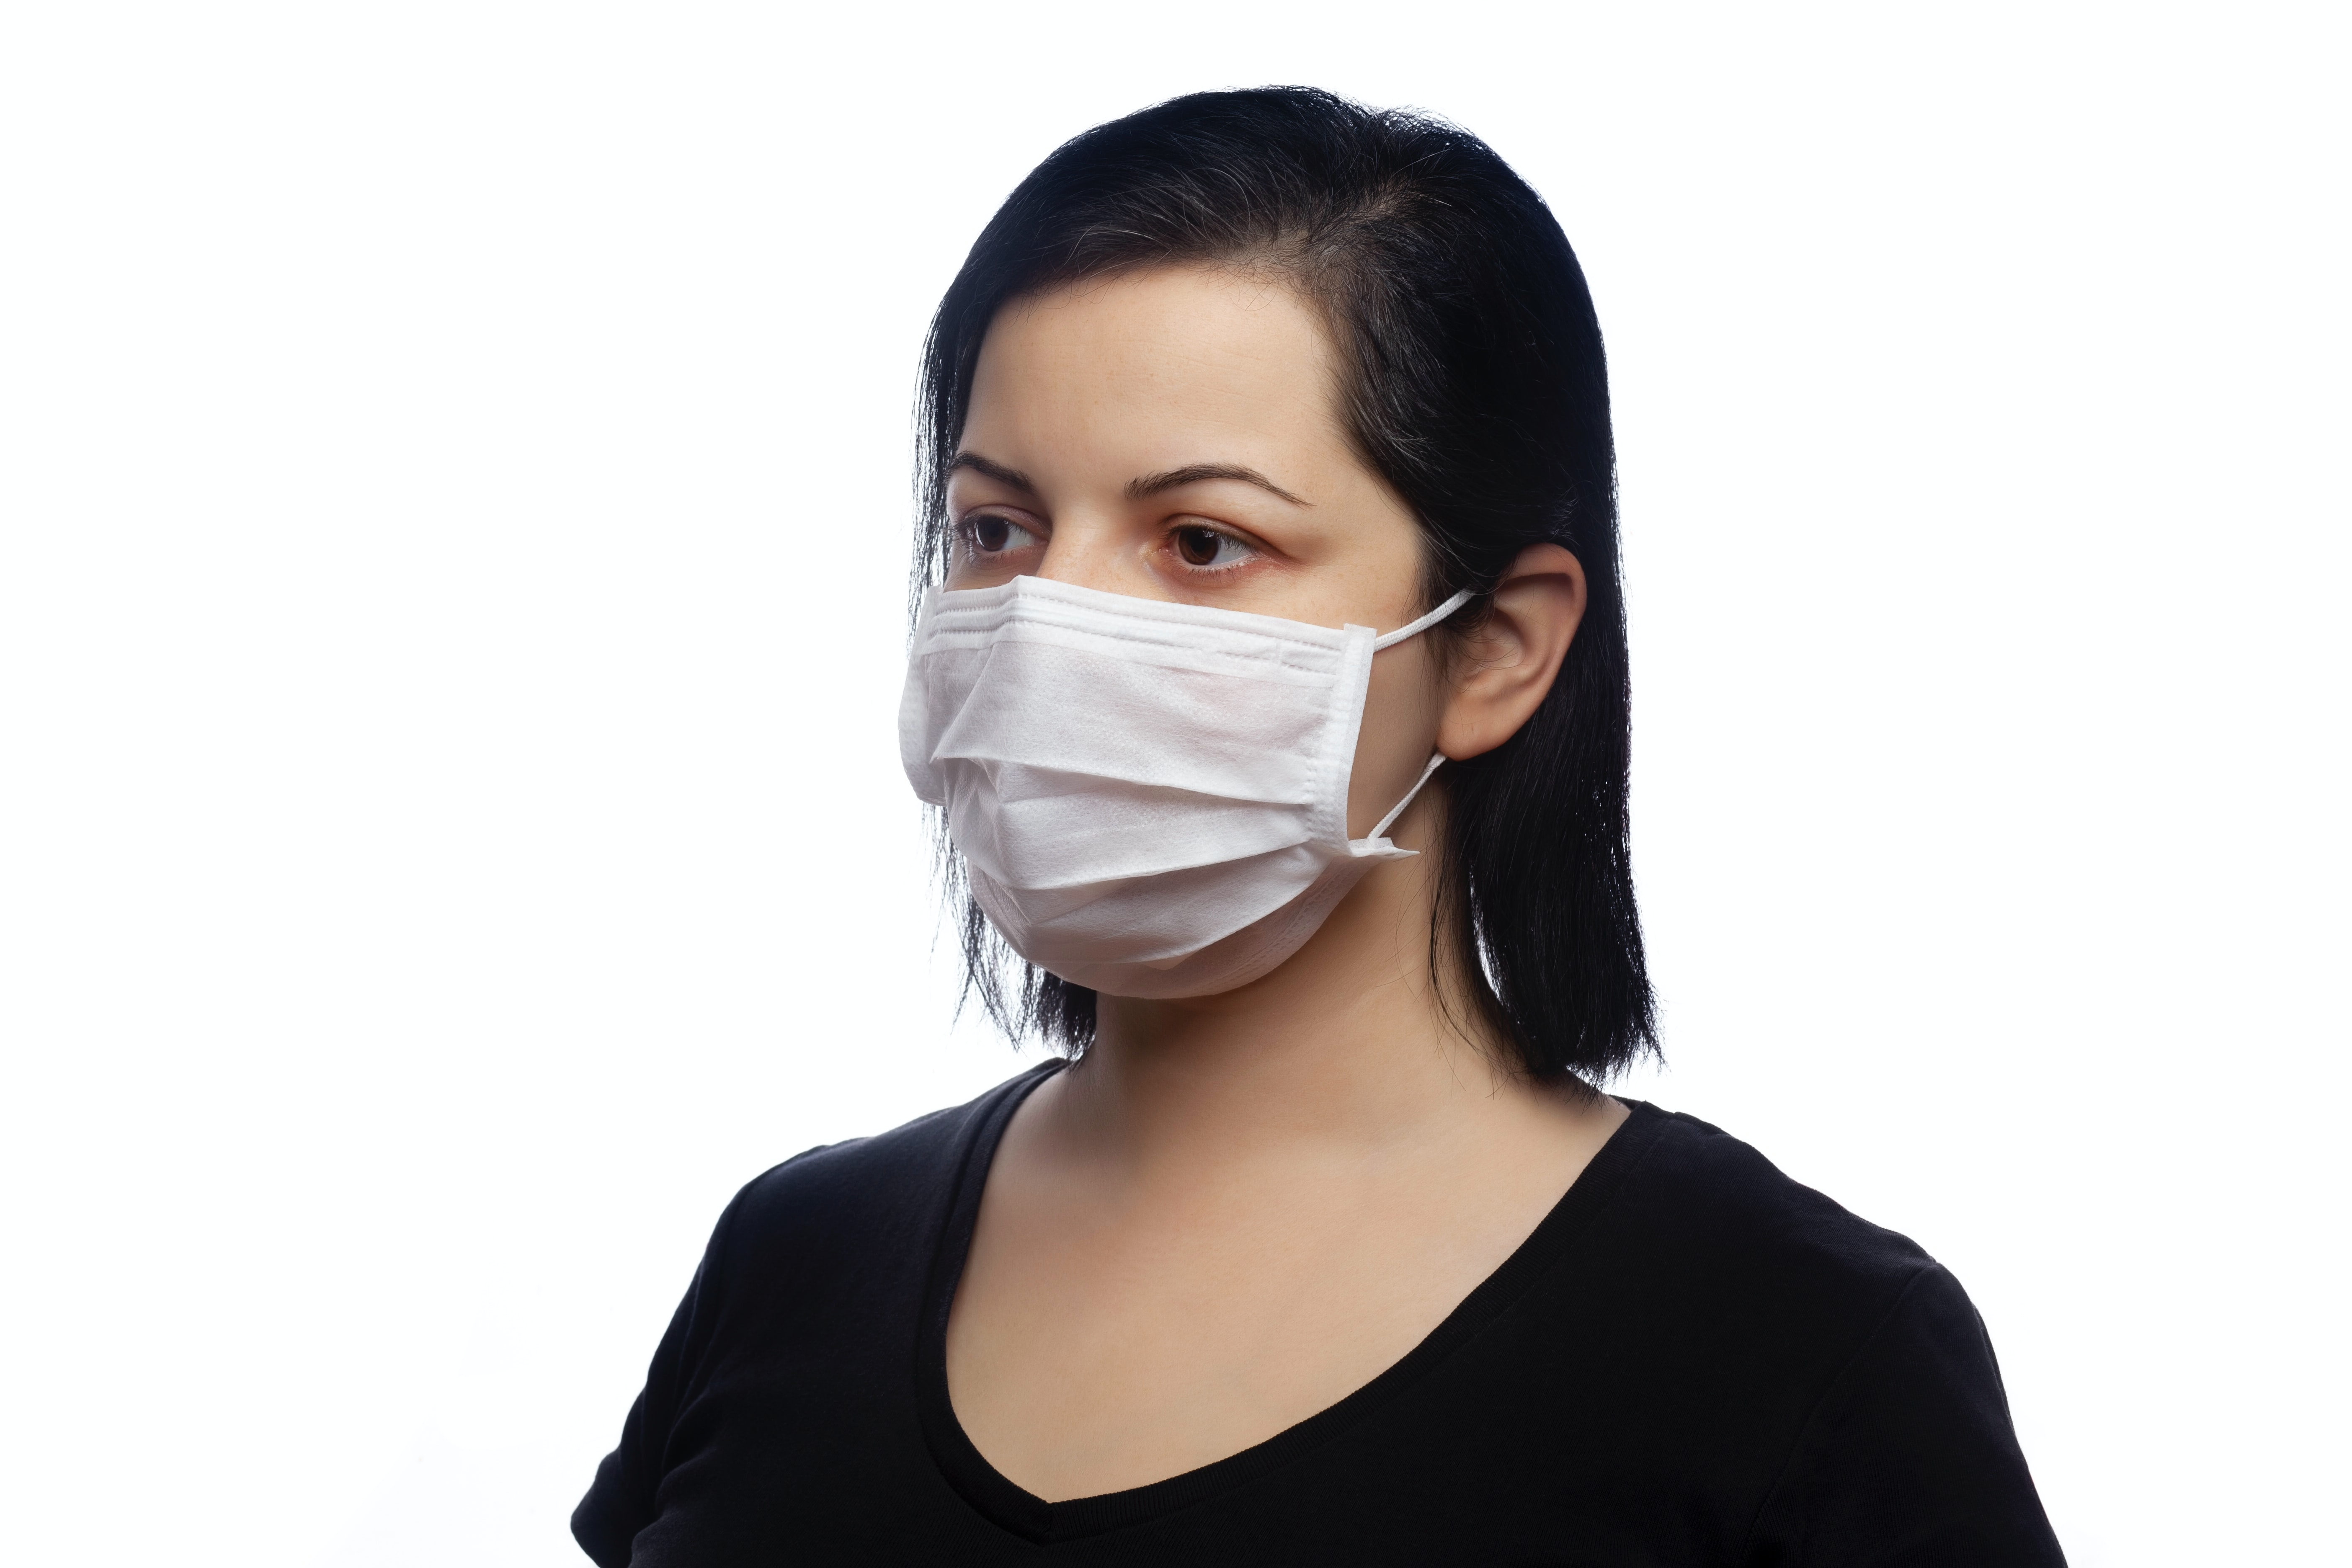mask: (869, 567, 1469, 1017)
person: (511, 90, 2113, 1568)
